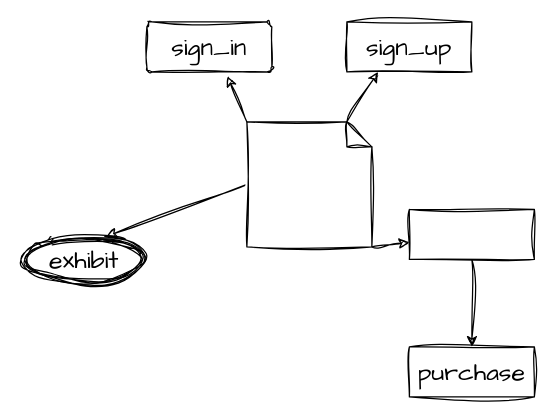
Image size: 556x419. Some labels were removed from this diagram. Here are the shapes that lost their labels. From the top down, the centre of each, then its label:
At [309,184]: "Index".
At [471,233]: "item".
